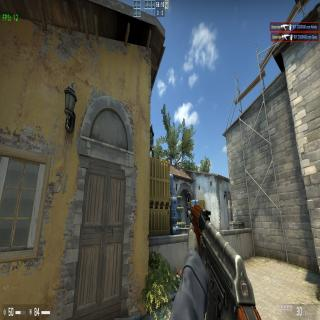CT-Body: (150, 131, 154, 158)
CT-Head: (150, 125, 152, 133)
